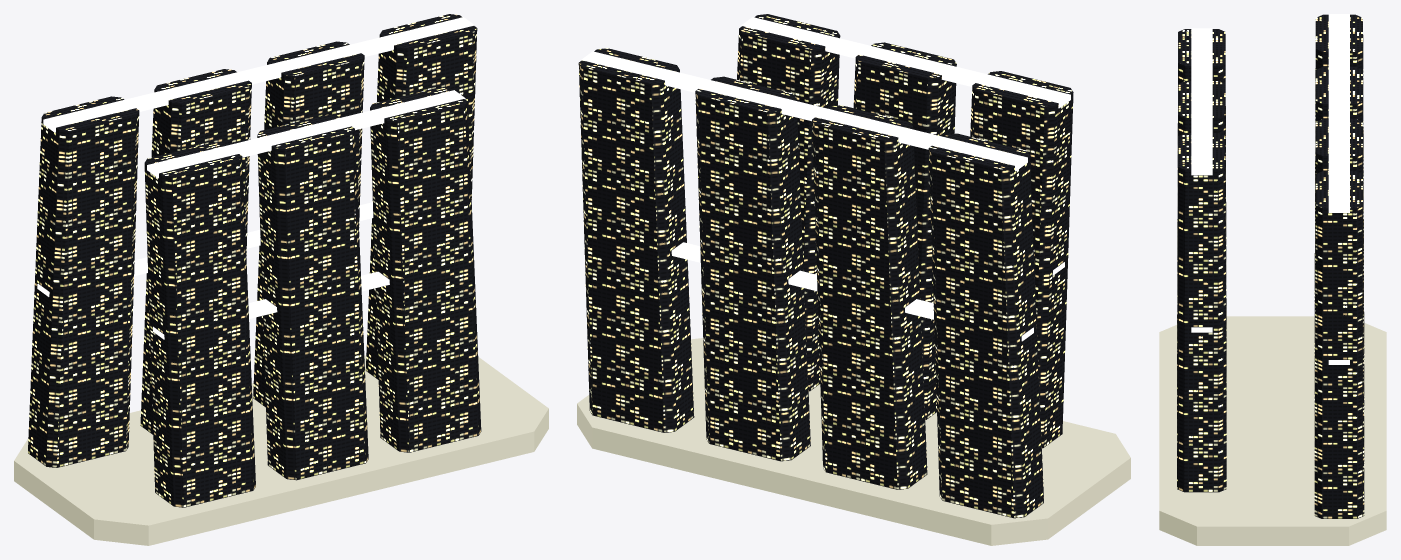
The model's file is pinnacle-duxton.glb.
The picture shows the model from 3 angles, left to right: view 1: azimuth 30°, elevation 25°; view 2: azimuth 150°, elevation 25°; view 3: azimuth 270°, elevation 25°; orthographic projection. The views are drawn at different scales.
Visible parts, largest first — view 1: blocks, podium, skybridge-upper-0, skybridge-upper-1, skybridge-lower-1, skybridge-lower-0; view 2: blocks, podium, skybridge-upper-0, skybridge-upper-1, skybridge-lower-0; view 3: blocks, podium, skybridge-upper-0, skybridge-upper-1.
Boxes of the visible parts, x1=… form: blocks: x1=28, y1=14, x2=481, y2=507; podium: x1=14, y1=355, x2=548, y2=545; skybridge-upper-0: x1=43, y1=17, x2=474, y2=132; skybridge-upper-1: x1=147, y1=90, x2=465, y2=178; skybridge-lower-1: x1=153, y1=271, x2=389, y2=339; skybridge-lower-0: x1=37, y1=202, x2=373, y2=296; blocks: x1=578, y1=14, x2=1073, y2=518; podium: x1=577, y1=338, x2=1130, y2=545; skybridge-upper-0: x1=581, y1=51, x2=1027, y2=170; skybridge-upper-1: x1=741, y1=17, x2=1070, y2=108; skybridge-lower-0: x1=671, y1=242, x2=1033, y2=341; blocks: x1=1177, y1=14, x2=1364, y2=518; podium: x1=1159, y1=316, x2=1386, y2=545; skybridge-upper-0: x1=1328, y1=14, x2=1349, y2=212; skybridge-upper-1: x1=1191, y1=28, x2=1212, y2=175.
Bounding box in the file's own units: 210 × 156 × 96.
Materials: 3 (1 with a texture image).
